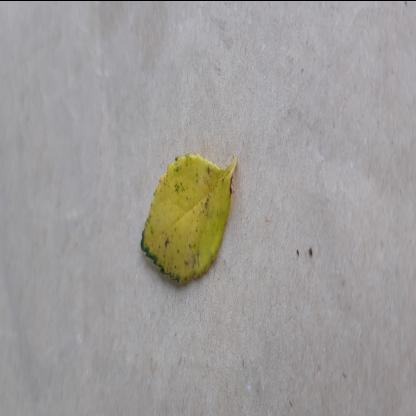black-spot: (139, 129, 241, 284)
